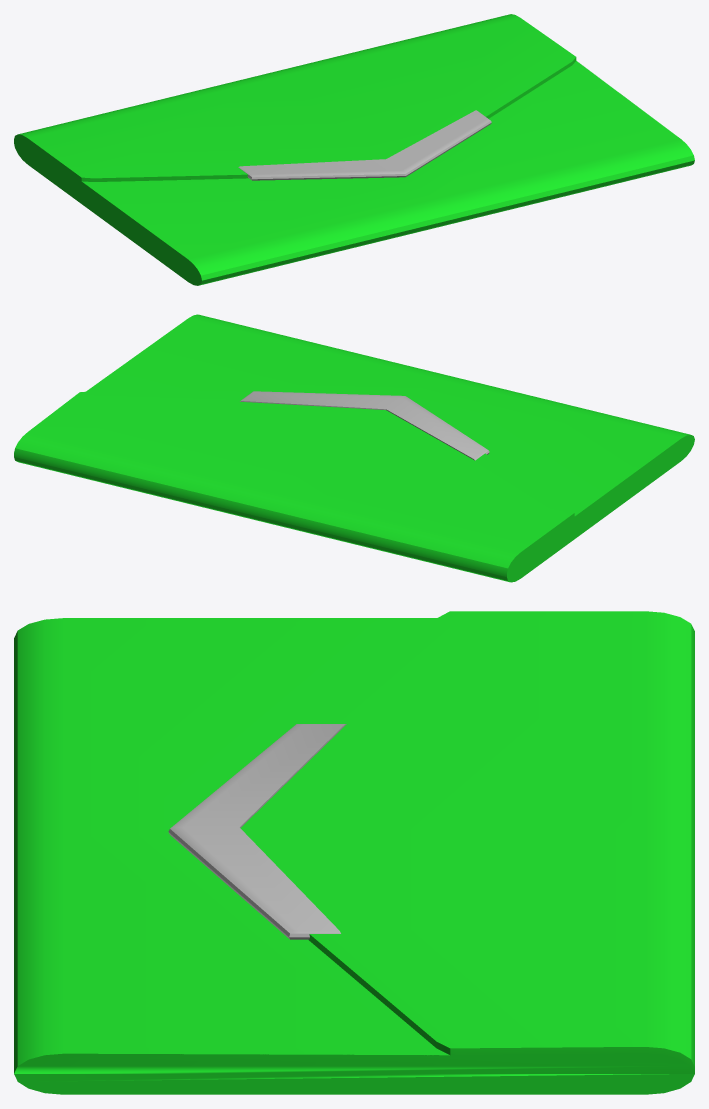
File: purse.gltf
3 views of the same model, one above another, from view 1: azimuth 30°, elevation 25°; view 2: azimuth 150°, elevation 25°; view 3: azimuth 270°, elevation 25° (orthographic). The views are drawn at different scales.
Parts seen in each view (by area): view 1: Cube.009; view 2: Cube.009; view 3: Cube.009.
Part boxes in pixels (box(x1,y1,x2,y2)): Cube.009: box(14, 14, 694, 285); Cube.009: box(14, 314, 694, 582); Cube.009: box(14, 611, 694, 1094).
Size of the model in its own units: 2.23 by 0.1179 by 1.47.
